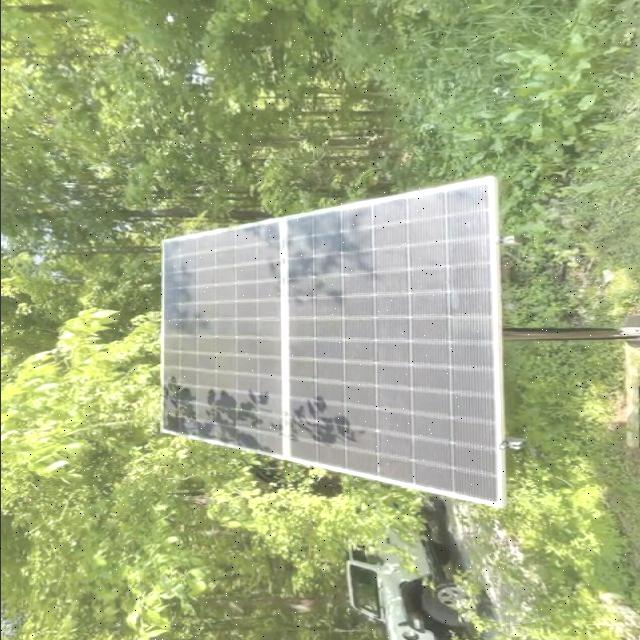Normal Solar Panel: (162, 175, 506, 506)
